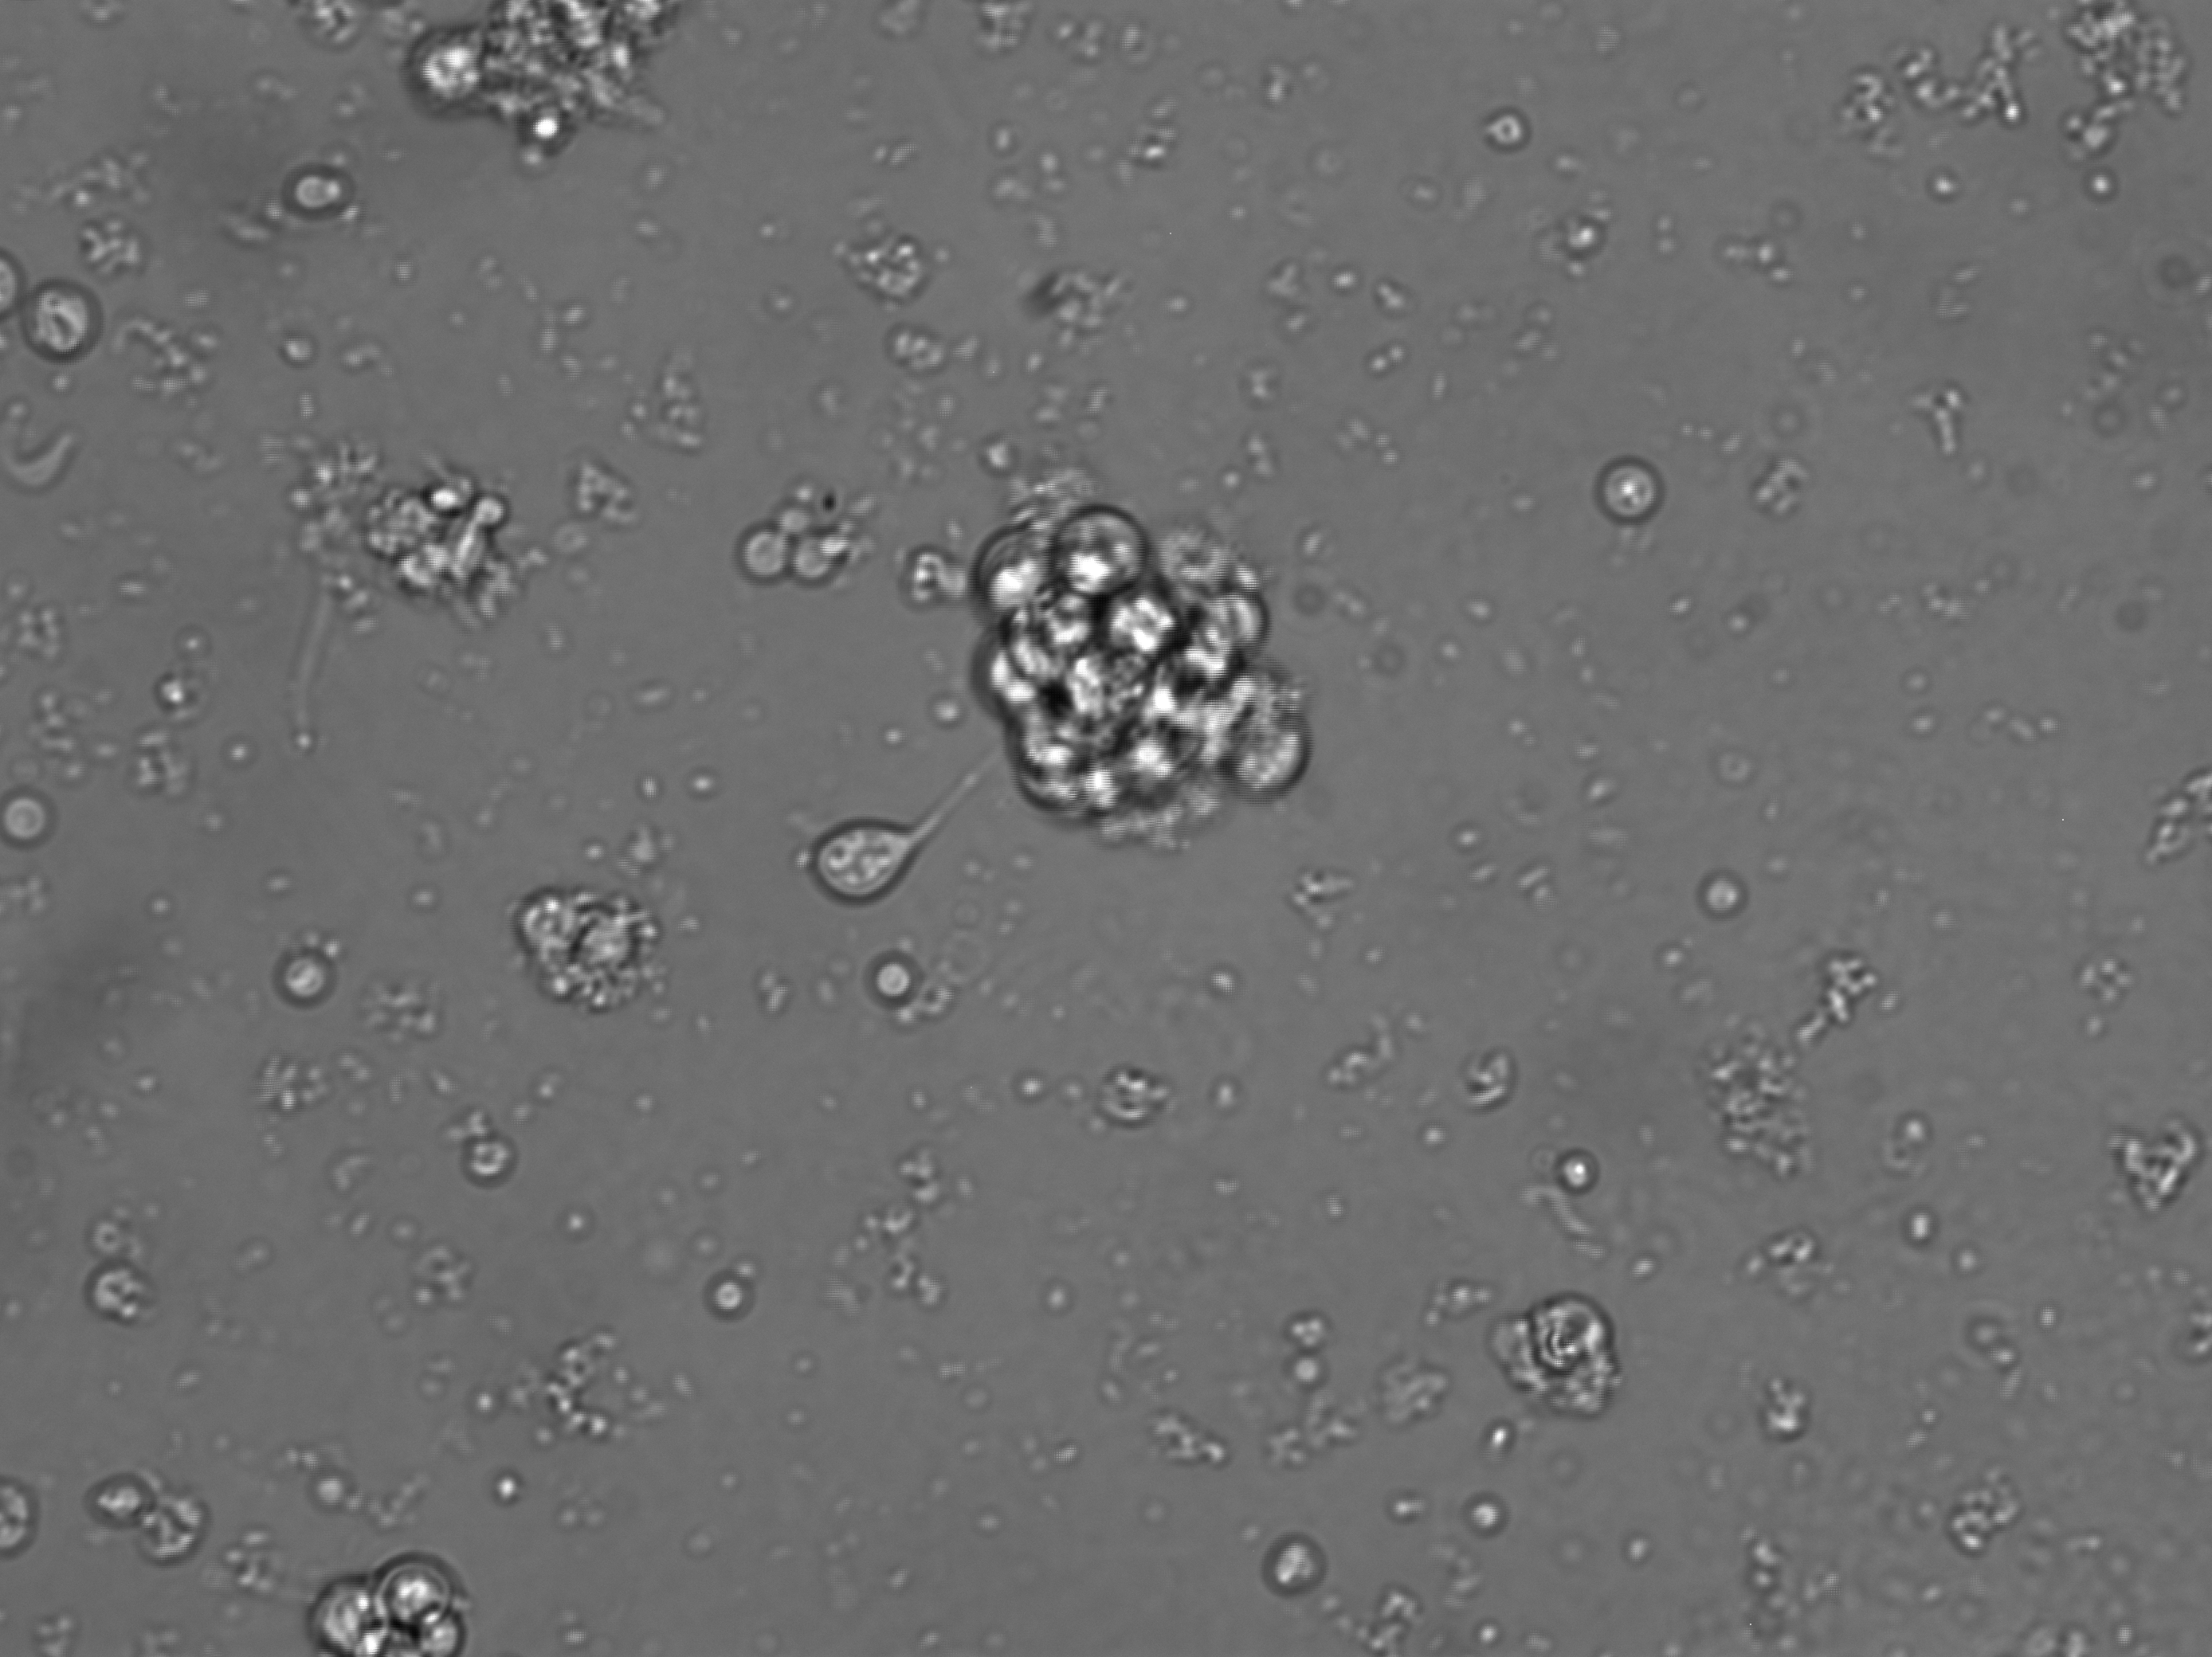ceil: (966, 505, 1317, 858), (400, 0, 680, 162), (353, 468, 529, 623), (503, 889, 670, 1016), (308, 1551, 472, 1657), (727, 494, 860, 592)
